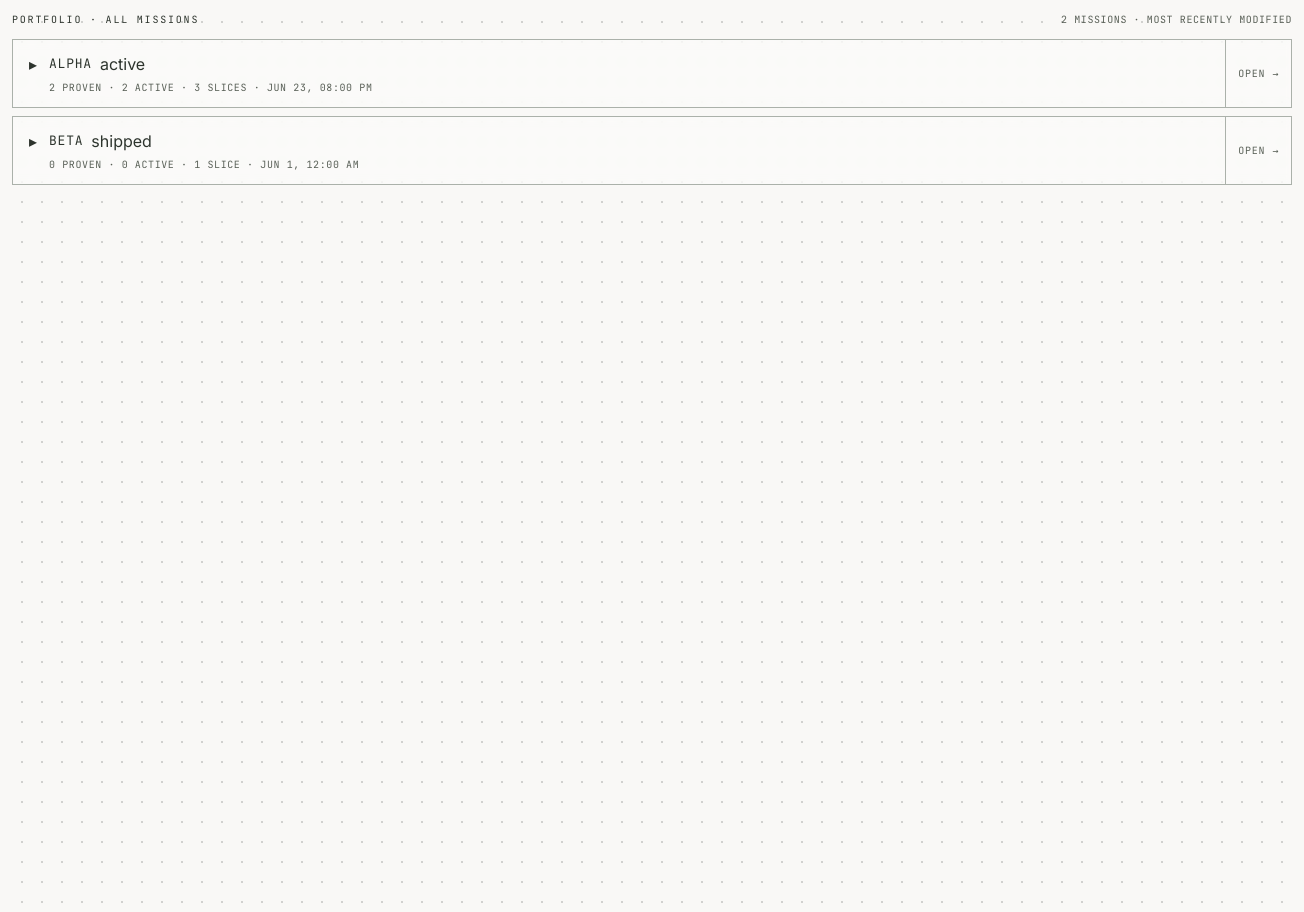
it: OPR.0.4.1.24 — workspace portfolio › AC-4: a mission with no MISSION_BRIEF.md shows a graceful empty glance on expand
What coordinates should you click on to do the following:
click the button with test id "portfolio-toggle-beta"
I would click on:
 (66, 141)
Its box is [13,117,1225,184].
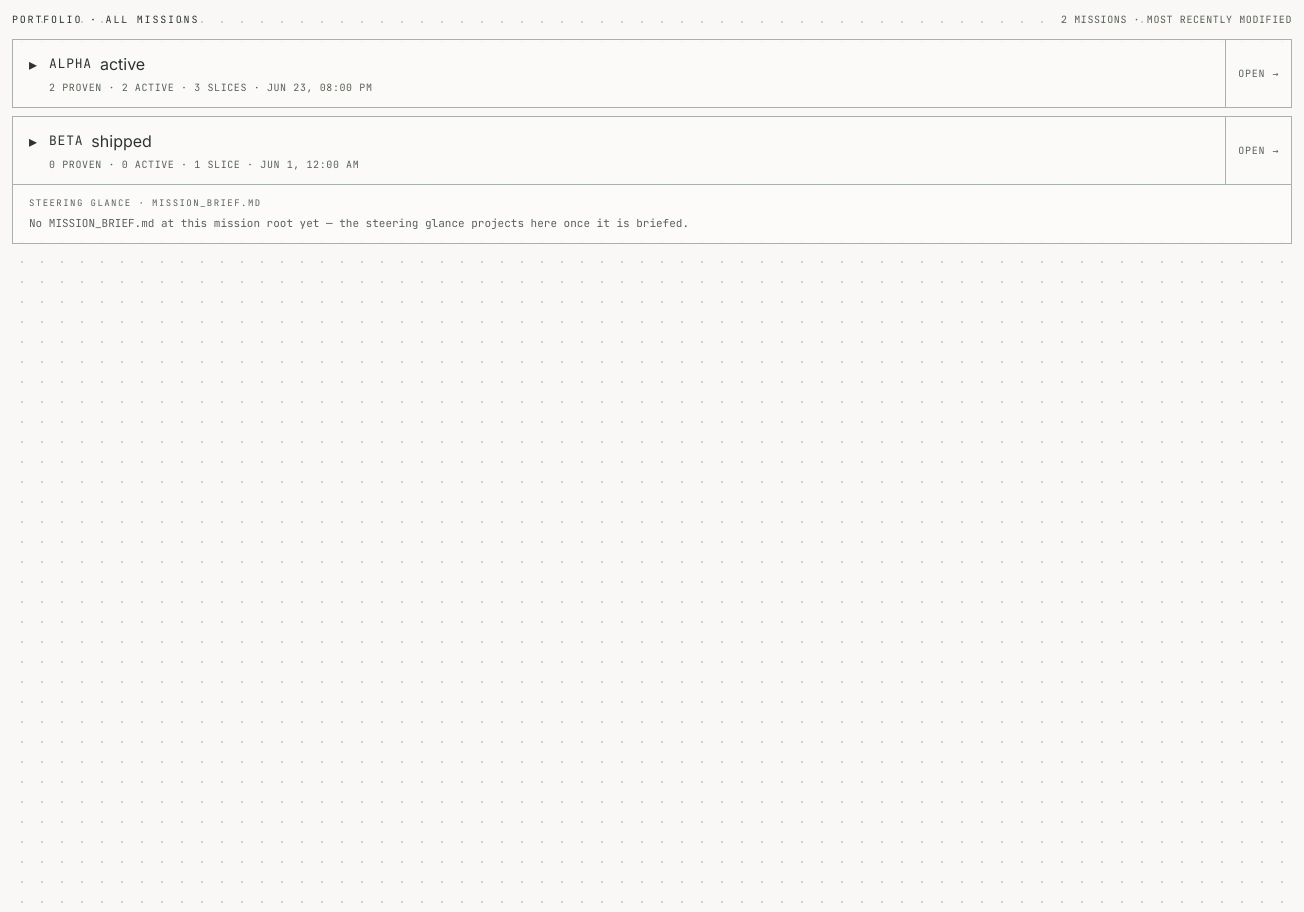
Expected: the text with test id "portfolio-glance-empty-beta" shows "No MISSION_BRIEF", [29,216,689,230]
